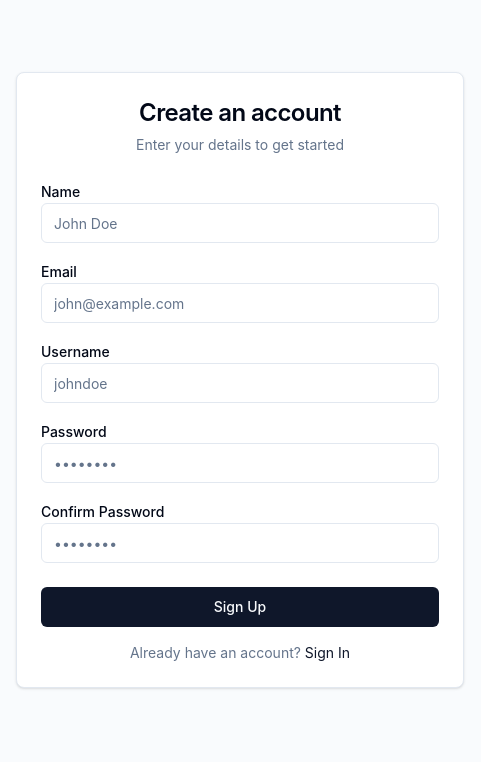
RegisterPage › validates password confirmation
Type "password123" into the password field labelled "Password" at [240, 463], box [41,443,439,483]
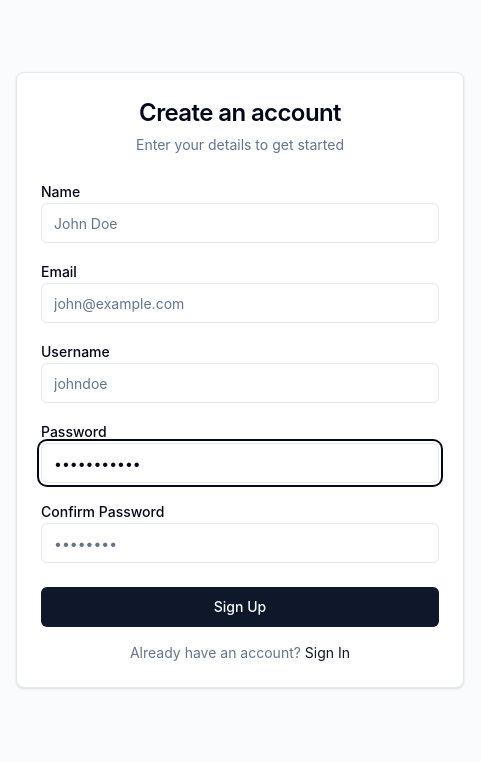
Type "different" into the password field labelled "Confirm Password" at [240, 543], box [41,523,439,563]
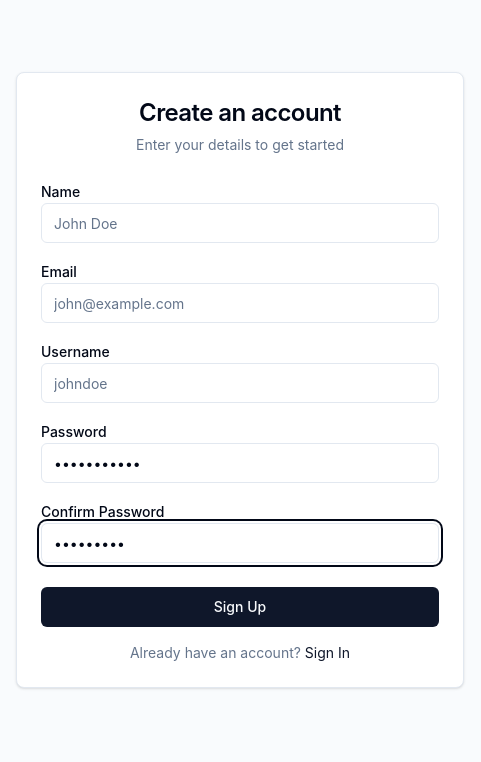
Press Tab
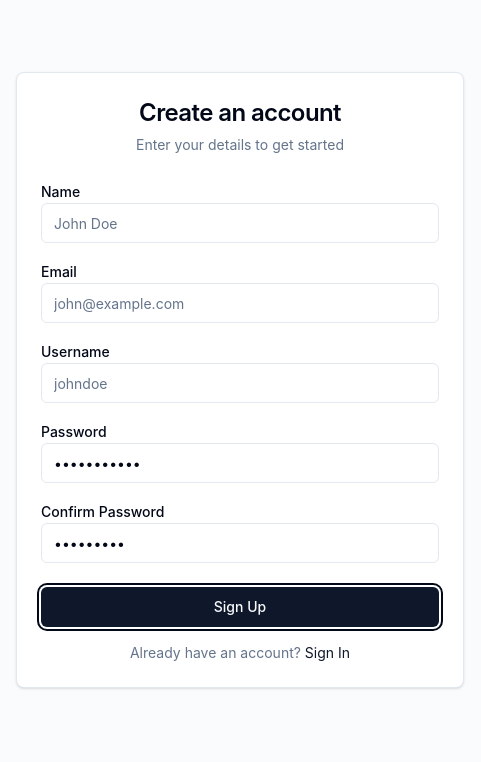
Click the button "Sign Up" at [240, 607], box [41,587,439,627]
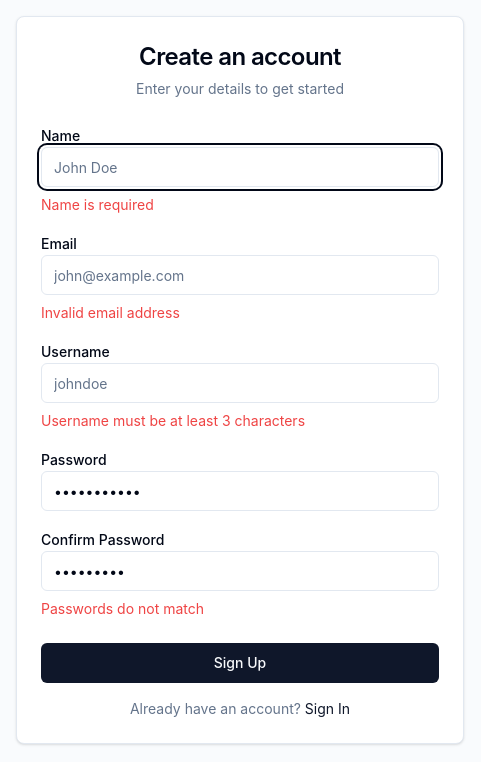
Now the text "Passwords do not match" is shown, box [41,600,204,617]
